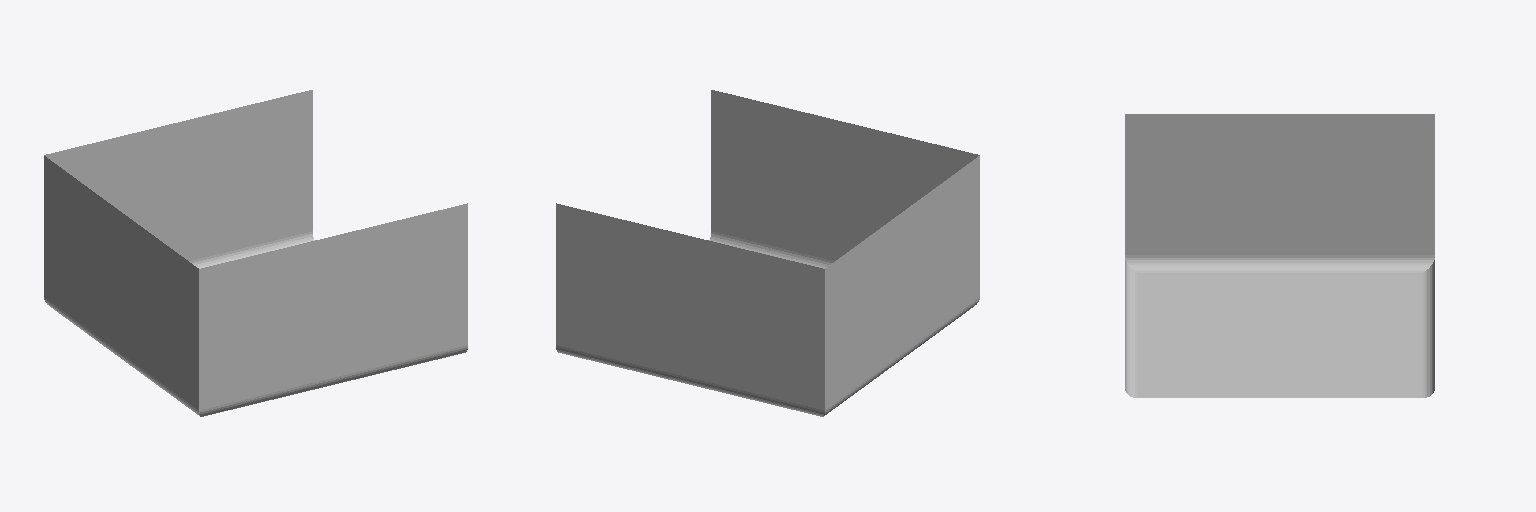
File: Backdrop.obj
3 views of the same model, side by side, from view 1: azimuth 30°, elevation 25°; view 2: azimuth 150°, elevation 25°; view 3: azimuth 270°, elevation 25° (orthographic).
Visible parts, largest first — view 1: Cube_Cube.001; view 2: Cube_Cube.001; view 3: Cube_Cube.001.
Part boxes in pixels (x1,y1,x2,y2): Cube_Cube.001: (44,90,467,416); Cube_Cube.001: (556,90,979,416); Cube_Cube.001: (1125,114,1434,397).
Bounding box in the file's own units: 20 × 10.91 × 20.